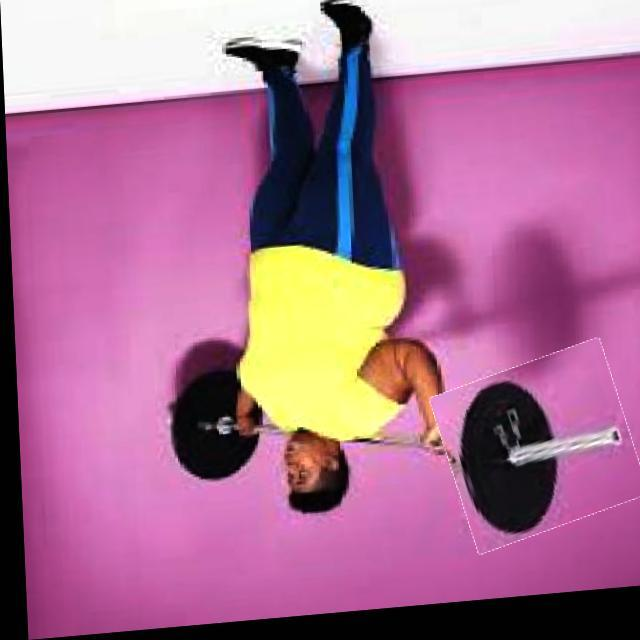barbell: (434, 357, 636, 556)
